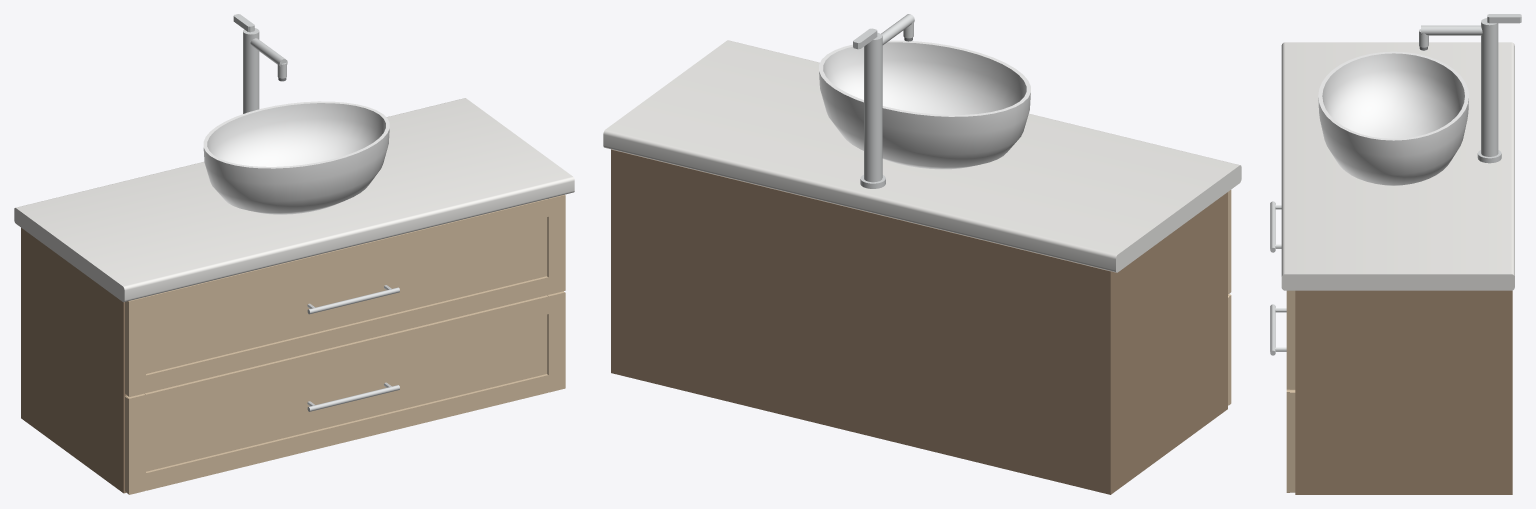
3 views of the same model, side by side, from view 1: azimuth 30°, elevation 25°; view 2: azimuth 150°, elevation 25°; view 3: azimuth 270°, elevation 25° (orthographic). The views are drawn at different scales.
Visible parts, largest first — view 1: Lavabo đặt bàn Dài mặt bàn=1200; Sâu mặt bàn=500; view 2: Lavabo đặt bàn Dài mặt bàn=1200; Sâu mặt bàn=500; view 3: Lavabo đặt bàn Dài mặt bàn=1200; Sâu mặt bàn=500.
Boxes of the visible parts, box(x1,y1,x2,y2) form: Lavabo đặt bàn Dài mặt bàn=1200; Sâu mặt bàn=500: box(14, 14, 574, 494); Lavabo đặt bàn Dài mặt bàn=1200; Sâu mặt bàn=500: box(603, 14, 1241, 494); Lavabo đặt bàn Dài mặt bàn=1200; Sâu mặt bàn=500: box(1270, 14, 1521, 494).
Size of the model in its own units: 1.2 by 0.884 by 0.55.
